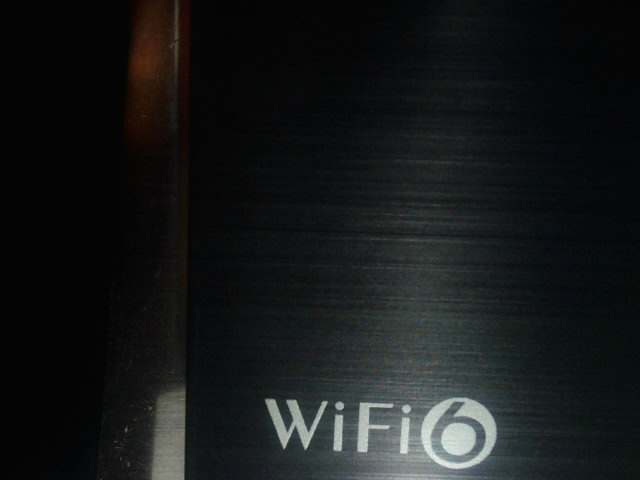AK_ZTEWIFI6Black: (255, 381, 517, 474)
